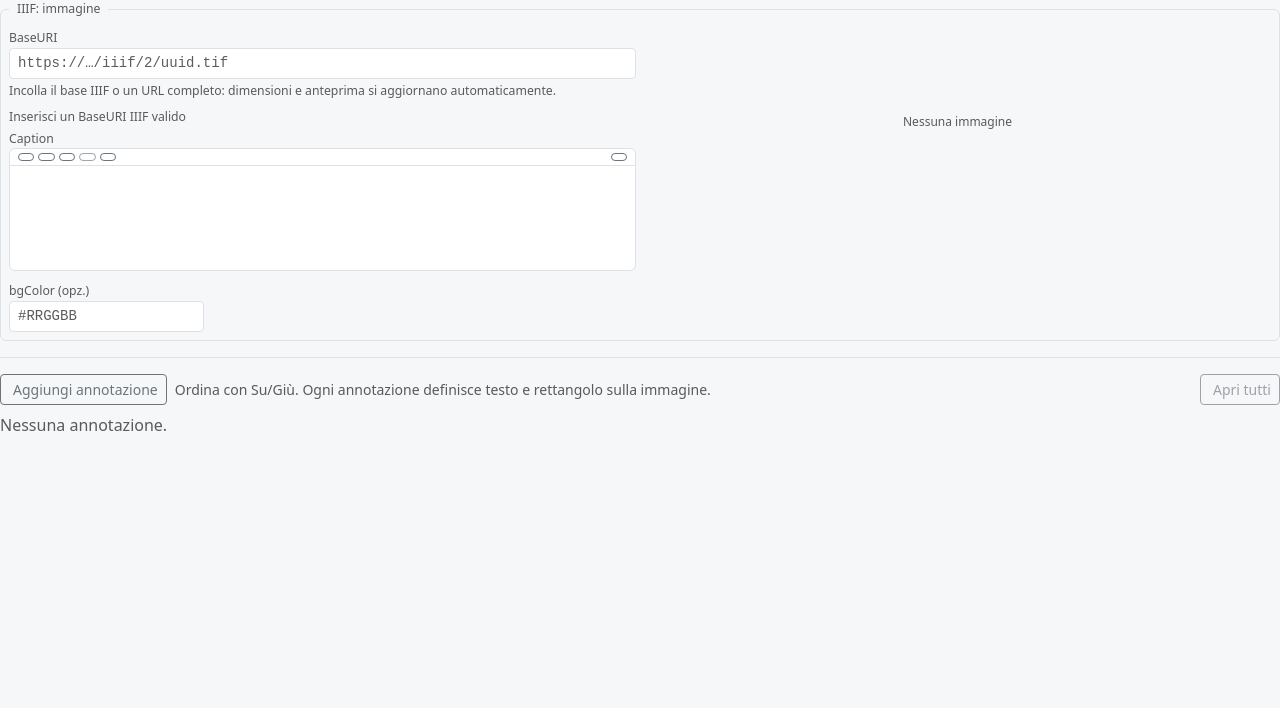
Test case: IIFAnnotationsGroupFields › Elimina rimuove l’annotazione
The width and height of the screenshot is (1280, 708).
Click the button "Aggiungi annotazione": coordinates (83, 389) [0, 374, 167, 405]
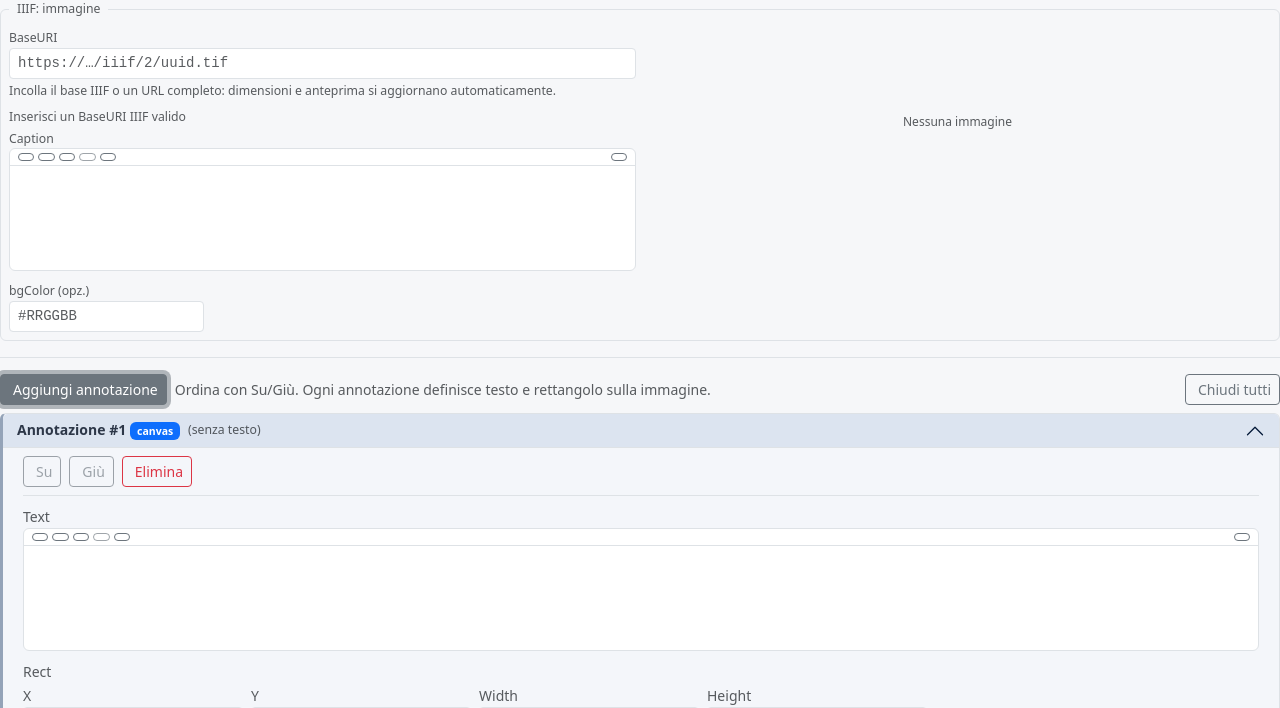
Click the button "Elimina": coordinates (157, 472) [122, 456, 192, 487]
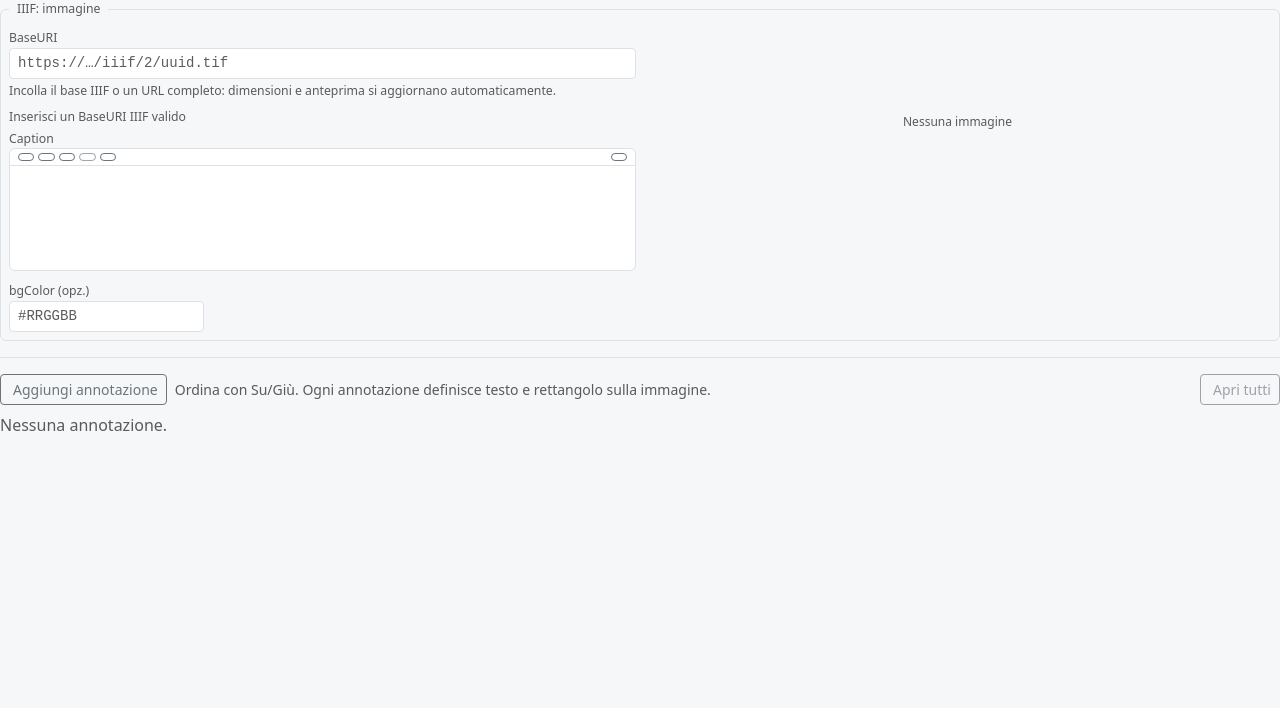
Expected: the button "Annotazione #1" is gone
